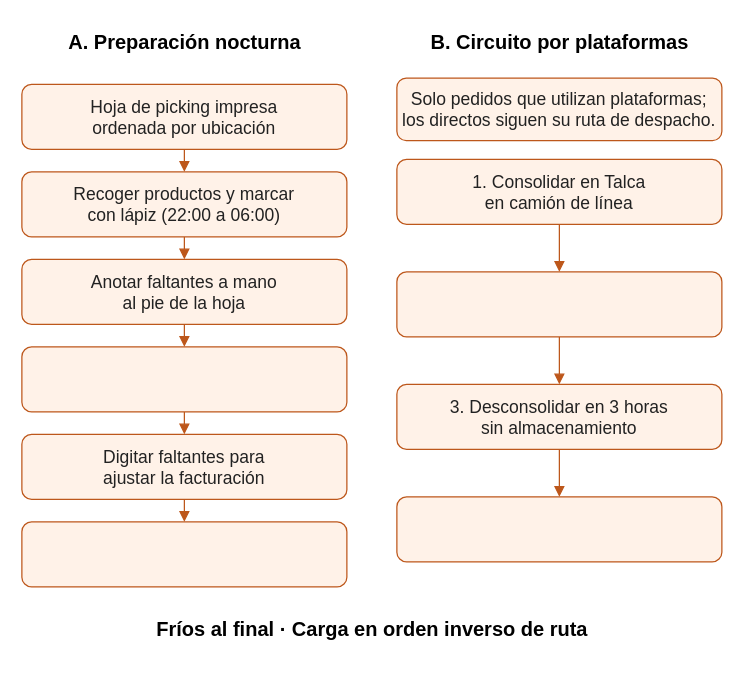
The diagram is 744 pixels wide and 673 high, and some of its shapes have lost their labels. The centre of each missing label's shape, as x and y in pixels:
"2. Llegar a la plataforma durante la madrugada" goes at [559,304].
"4. Despachar en la mañana en camiones de reparto" goes at [559,529].
"Devolver la hoja a oficina" goes at [184,379].
"La causa del faltante no queda registrada" goes at [184,554].
